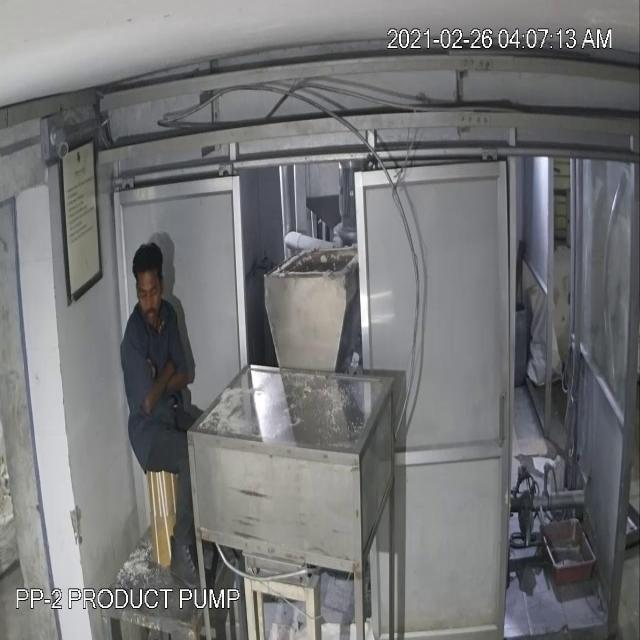no-helmet: (127, 234, 167, 298)
